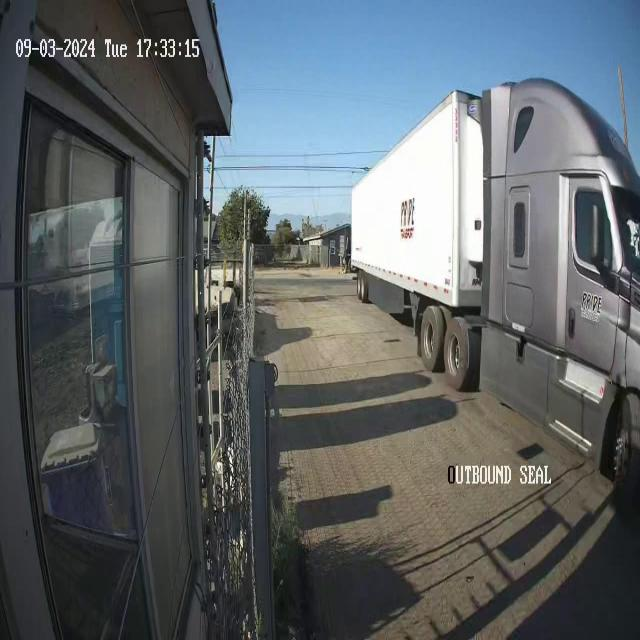TRUCK_CONTAINER: (349, 75, 639, 490)
